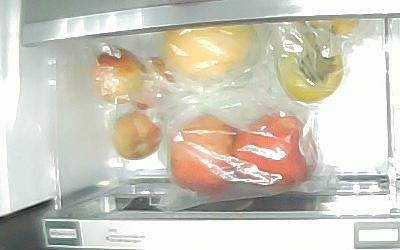apple_vinyl: (236, 112, 318, 189), (169, 113, 237, 196)
grapefruit_vinyl: (163, 23, 254, 83)
persimmon_vinyl: (275, 29, 344, 103)
prune_vinyl: (91, 48, 142, 104), (111, 111, 160, 160), (133, 57, 173, 110)
